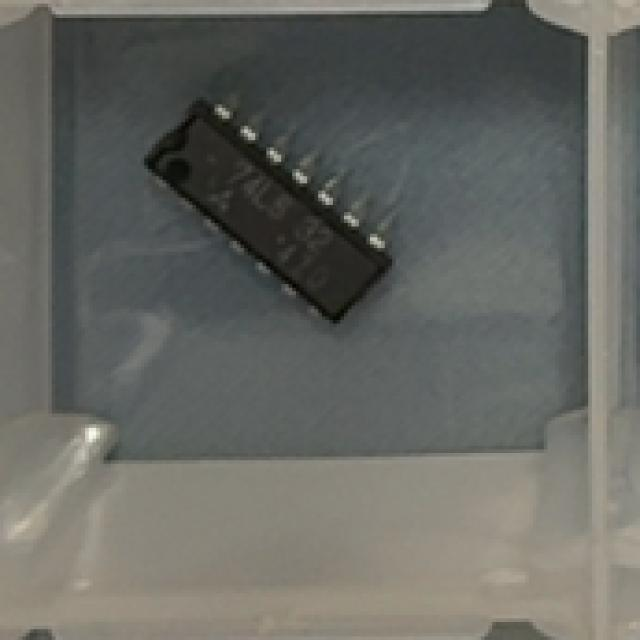IC: (139, 84, 406, 322)
